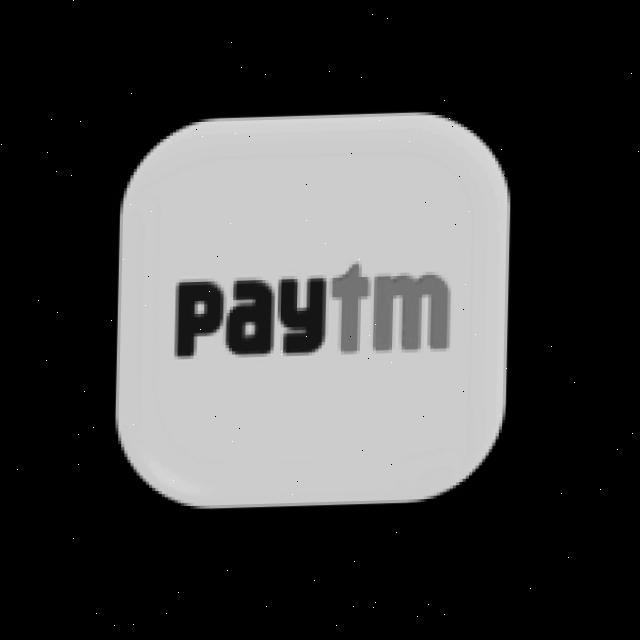fully_visible: (167, 255, 459, 387)
